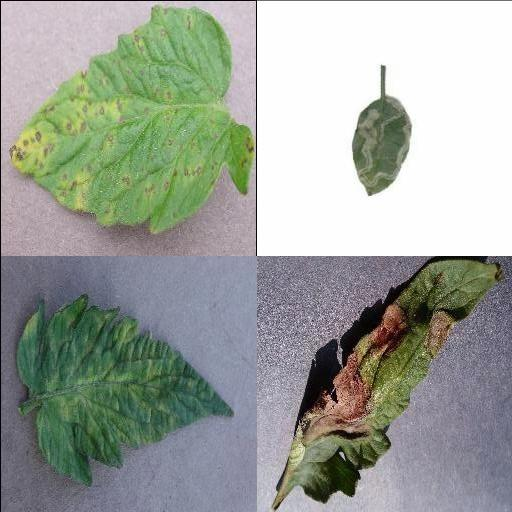Late Blight: (269, 260, 505, 508)
Leaf Miner: (351, 95, 409, 196)
Leaf Mold: (18, 296, 234, 490)
Septoria: (10, 4, 256, 233)
